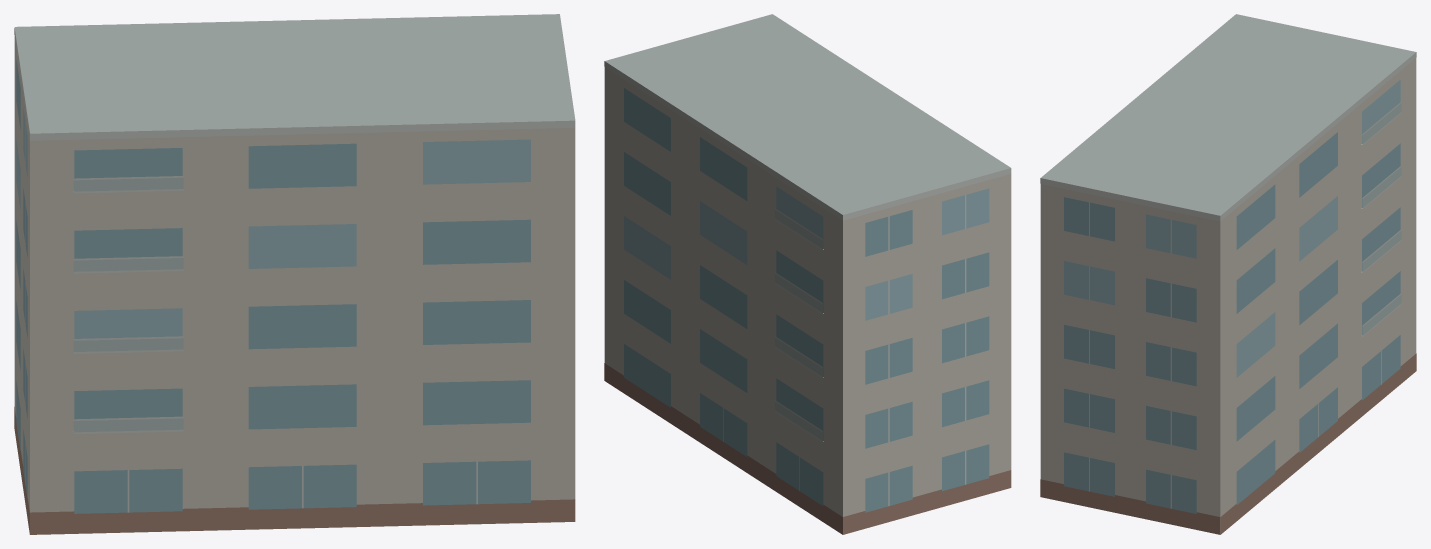
Rendered from survey-upis-32890177.glb.
3 views of the same model, side by side, from view 1: azimuth 30°, elevation 25°; view 2: azimuth 150°, elevation 25°; view 3: azimuth 270°, elevation 25° (orthographic). The views are drawn at different scales.
Parts seen in each view (by area): view 1: survey-upis-32890177.tmp; view 2: survey-upis-32890177.tmp; view 3: survey-upis-32890177.tmp.
Boxes of the visible parts, box(x1,y1,x2,y2) form: survey-upis-32890177.tmp: box(14, 14, 575, 534); survey-upis-32890177.tmp: box(604, 14, 1011, 534); survey-upis-32890177.tmp: box(1040, 14, 1416, 534).
Bounding box in the file's own units: 18.6 × 13.7 × 14.64.
